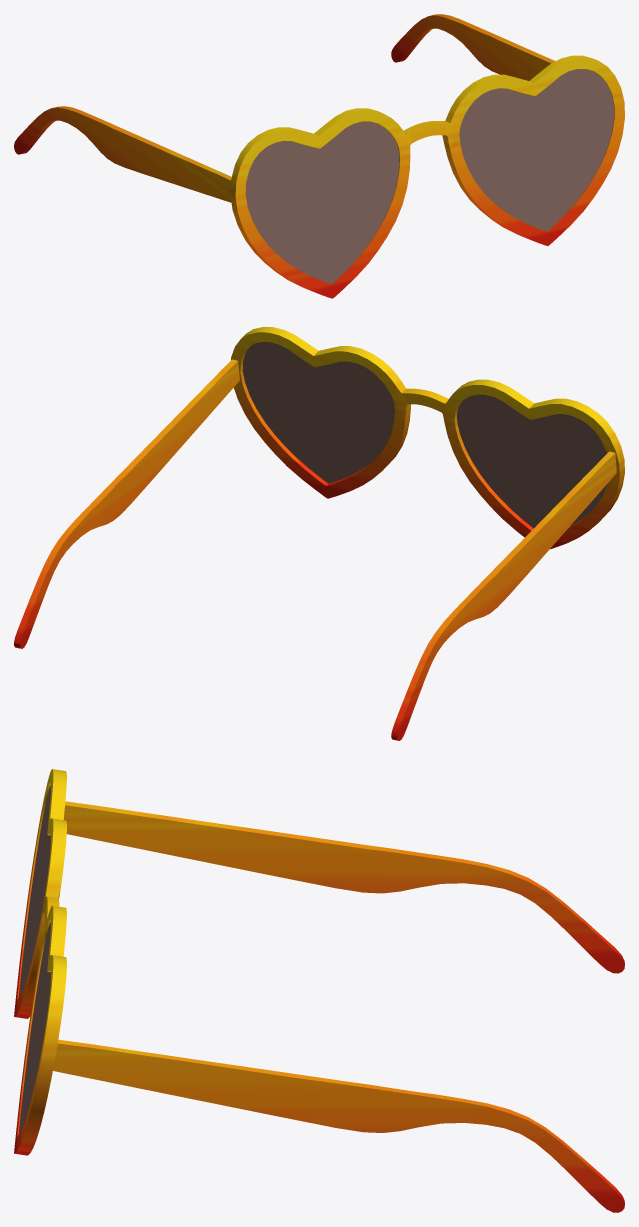
File: glasses.glb
3 renders of one model, top to bottom at view 1: azimuth 30°, elevation 25°; view 2: azimuth 150°, elevation 25°; view 3: azimuth 270°, elevation 25°, orthographic. The views are drawn at different scales.
Visible parts, largest first — view 1: glasses; view 2: glasses; view 3: glasses.
Boxes of the visible parts, x1=… form: glasses: x1=14, y1=14, x2=624, y2=298; glasses: x1=14, y1=327, x2=624, y2=740; glasses: x1=14, y1=769, x2=624, y2=1212.
Size of the model in its own units: 0.7793 by 0.3274 by 0.8151.
1 material, 1 textured.
